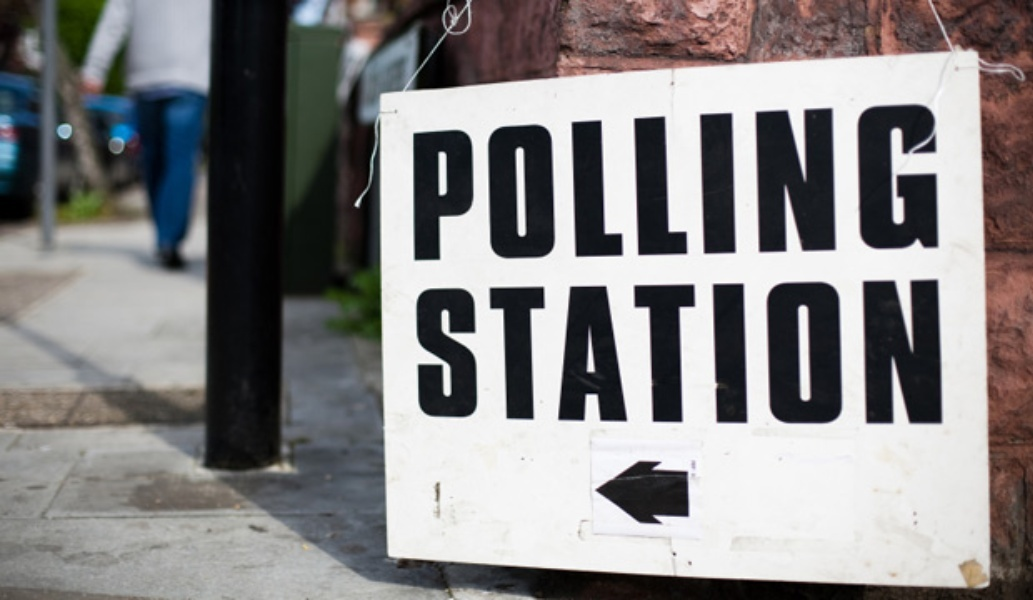text: (417, 101, 432, 264), (433, 101, 448, 264), (449, 101, 464, 264), (465, 101, 480, 264), (481, 101, 496, 264), (497, 101, 512, 264), (513, 101, 528, 264), (529, 101, 544, 264), (545, 101, 560, 264), (561, 101, 576, 264), (577, 101, 592, 264), (593, 101, 608, 264), (609, 101, 624, 264), (625, 101, 640, 264), (641, 101, 656, 264), (657, 101, 672, 264), (673, 101, 688, 264), (689, 101, 704, 264), (705, 101, 720, 264), (721, 101, 736, 264), (737, 101, 752, 264), (753, 101, 768, 264), (769, 101, 784, 264), (785, 101, 800, 264), (801, 101, 816, 264), (817, 101, 832, 264), (833, 101, 848, 264), (849, 101, 864, 264), (865, 101, 880, 264), (881, 101, 896, 264), (897, 101, 912, 264), (913, 101, 928, 264), (929, 101, 944, 264), (417, 281, 432, 427), (433, 281, 448, 427), (449, 281, 464, 427), (465, 281, 480, 427), (481, 281, 496, 427), (497, 281, 512, 427), (513, 281, 528, 427), (529, 281, 544, 427), (545, 281, 560, 427), (561, 281, 576, 427), (577, 281, 592, 427), (593, 281, 608, 427), (609, 281, 624, 427), (625, 281, 640, 427), (641, 281, 656, 427), (657, 281, 672, 427), (673, 281, 688, 427), (689, 281, 704, 427), (705, 281, 720, 427), (721, 281, 736, 427), (737, 281, 752, 427), (753, 281, 768, 427), (769, 281, 784, 427), (785, 281, 800, 427), (801, 281, 816, 427), (817, 281, 832, 427), (833, 281, 848, 427), (849, 281, 864, 427), (865, 281, 880, 427), (881, 281, 896, 427), (897, 281, 912, 427), (913, 281, 928, 427), (929, 281, 944, 427), (409, 101, 416, 264), (410, 281, 416, 427), (945, 281, 947, 427)
